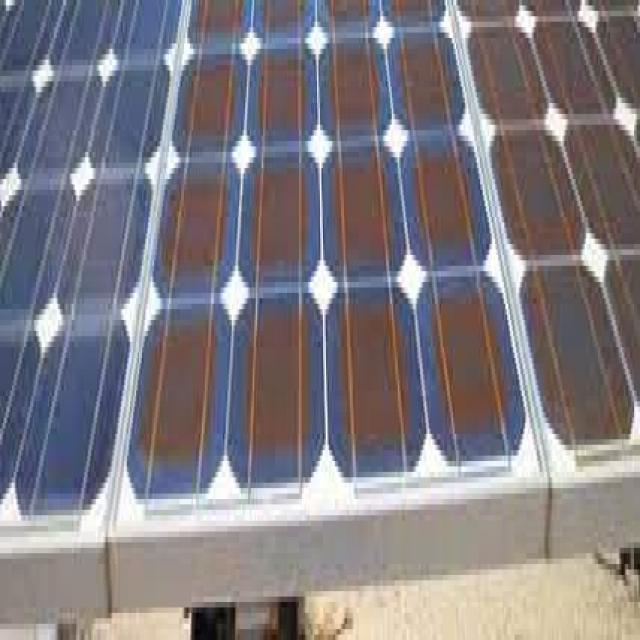faulty: (149, 0, 501, 510), (496, 0, 640, 491)
no faulty: (0, 0, 135, 507)
